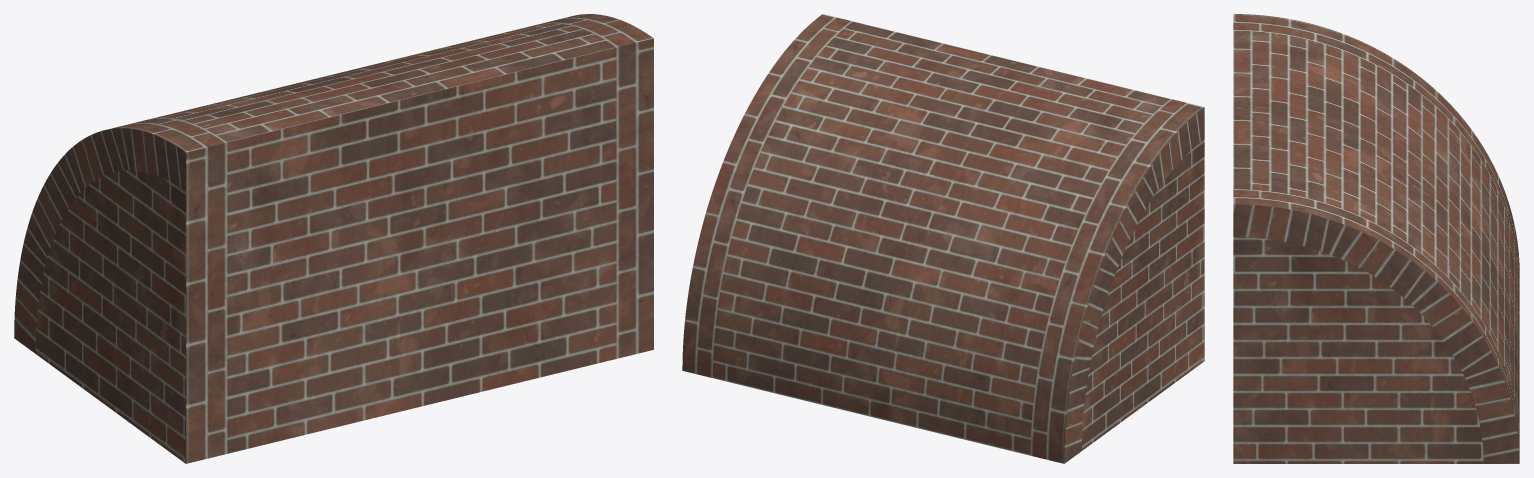
Rendered from ramp_90_concave.dae.
The picture shows the model from 3 angles, left to right: view 1: azimuth 30°, elevation 25°; view 2: azimuth 150°, elevation 25°; view 3: azimuth 270°, elevation 25°; orthographic projection. The views are drawn at different scales.
Visible parts, largest first — view 1: group_0 (×3); view 2: group_0 (×3); view 3: group_0 (×3).
Part boxes in pixels (<box>): group_0 (×3): <box>14,14,653,463</box>; group_0 (×3): <box>682,14,1204,463</box>; group_0 (×3): <box>1233,14,1519,463</box>.
Bounding box in the file's own units: 39.37 × 25.04 × 25.04.
3 materials, 3 textured.
